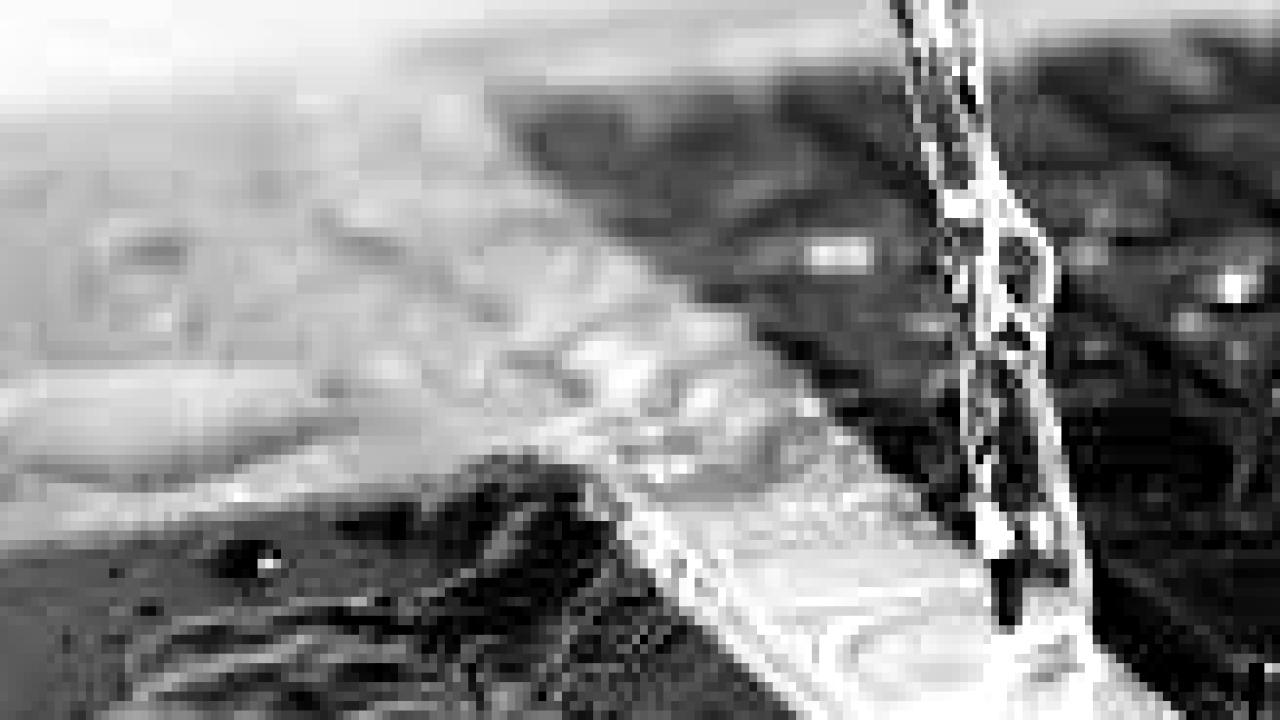Water Stains: (0, 189, 749, 719)
